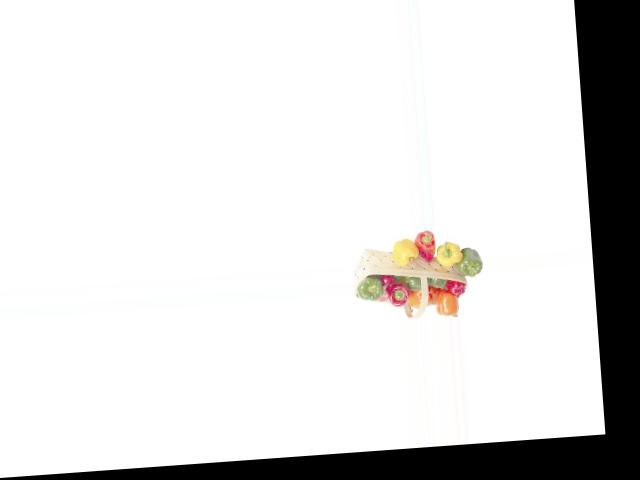bell_pepper: (356, 276, 386, 302)
